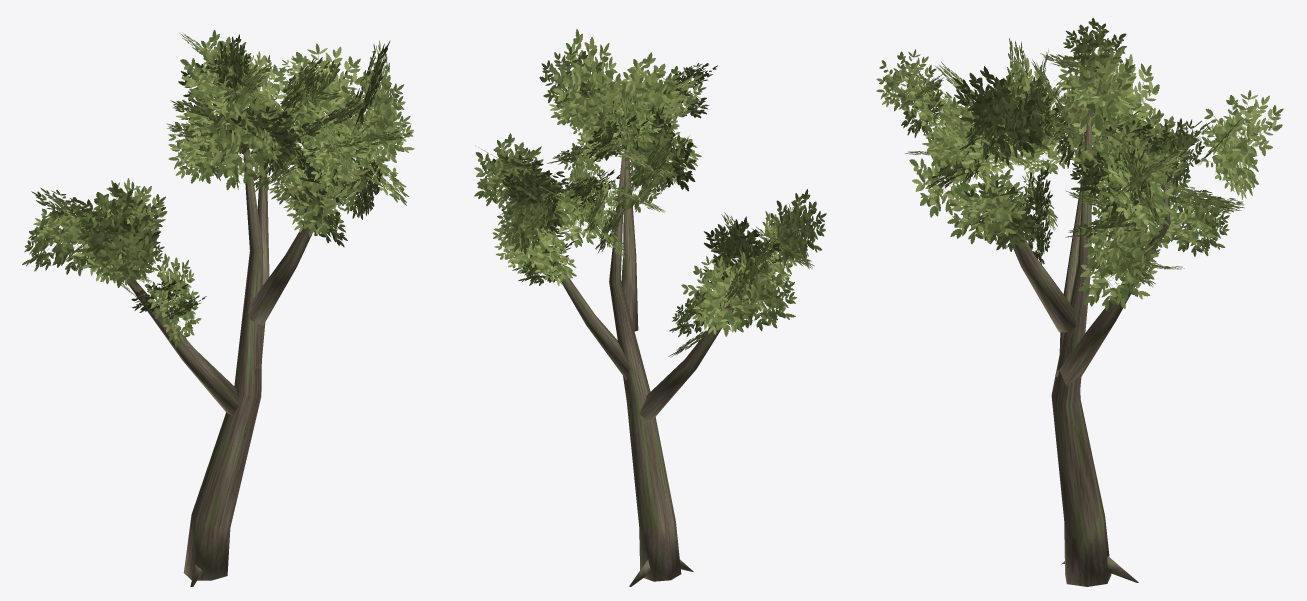
File: tree-oak-2_lod1.glb
3 renders of one model, left to right at view 1: azimuth 30°, elevation 25°; view 2: azimuth 150°, elevation 25°; view 3: azimuth 270°, elevation 25°, orthographic. The views are drawn at different scales.
Parts seen in each view (by area): view 1: Broadleaf sprigs, Trunk and branches; view 2: Broadleaf sprigs, Trunk and branches; view 3: Broadleaf sprigs, Trunk and branches.
Boxes of the visible parts, bbox=[...] form: Broadleaf sprigs: bbox=[22, 30, 414, 347]; Trunk and branches: bbox=[125, 110, 333, 586]; Broadleaf sprigs: bbox=[474, 29, 826, 357]; Trunk and branches: bbox=[537, 149, 740, 586]; Broadleaf sprigs: bbox=[876, 18, 1283, 310]; Trunk and branches: bbox=[981, 108, 1170, 586].
Size of the model in its own units: 5 by 7 by 4.6.
2 materials, 2 textured.
